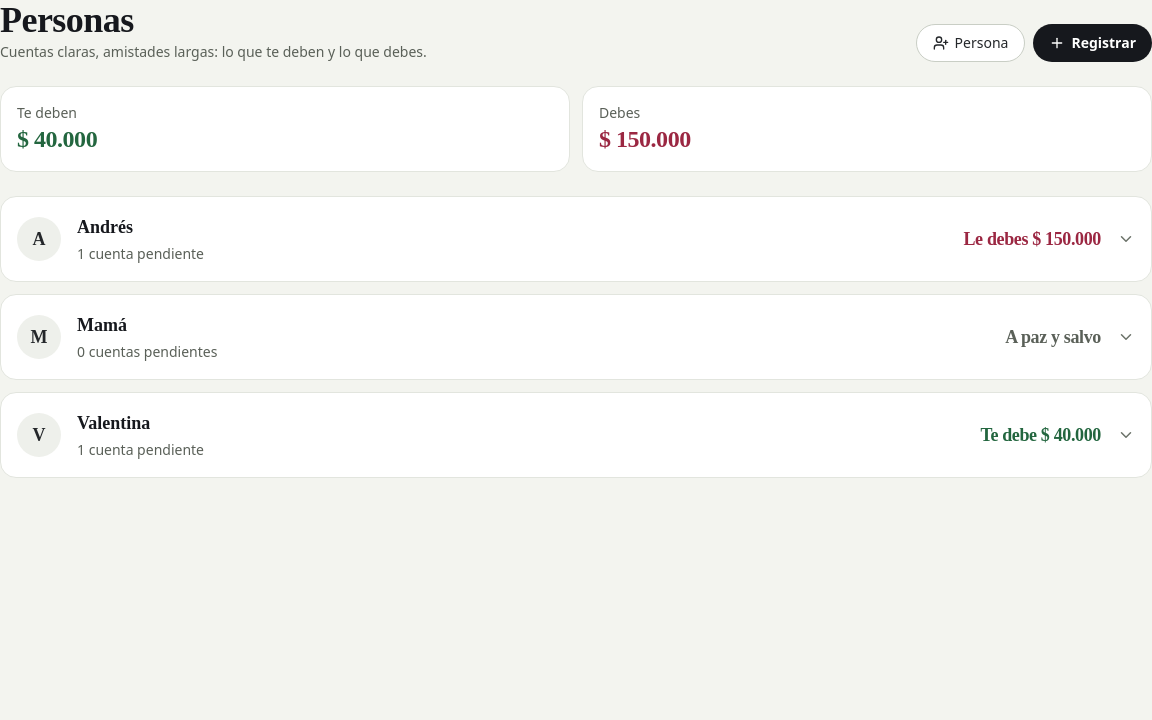
Test: Personas › un abono de más muestra el motivo que da la API
Click the button "V Valentina 1 cuenta pendiente Te debe $ 40.000" at (39, 435), box [1, 393, 1151, 477]
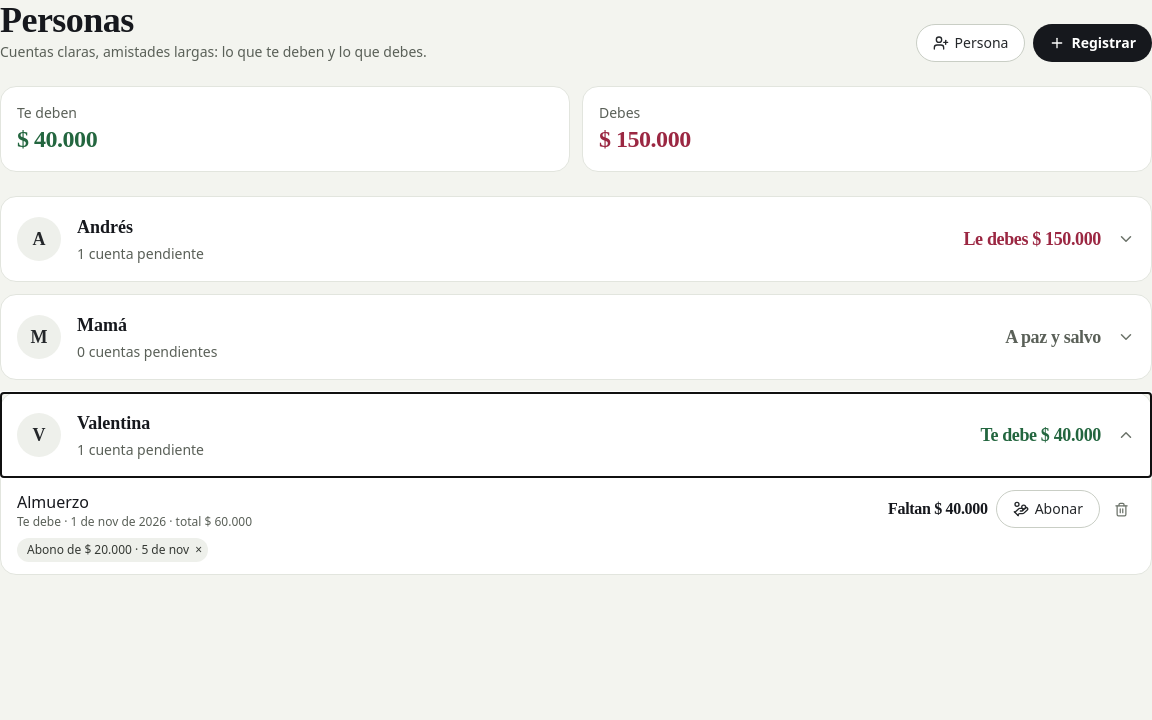
Click the button "Abonar" at (1048, 509), box [996, 490, 1100, 528]
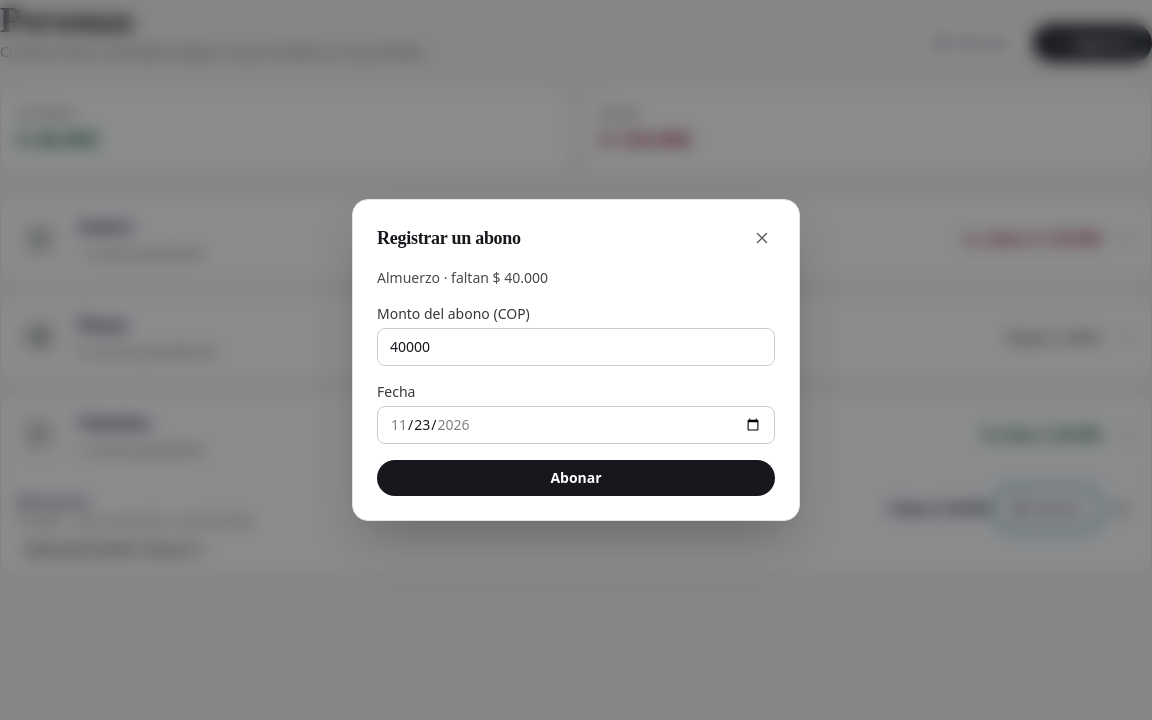
Replace the text in the number field labelled "Monto del abono (COP)" with "50000" at (576, 347), box [377, 328, 775, 366]
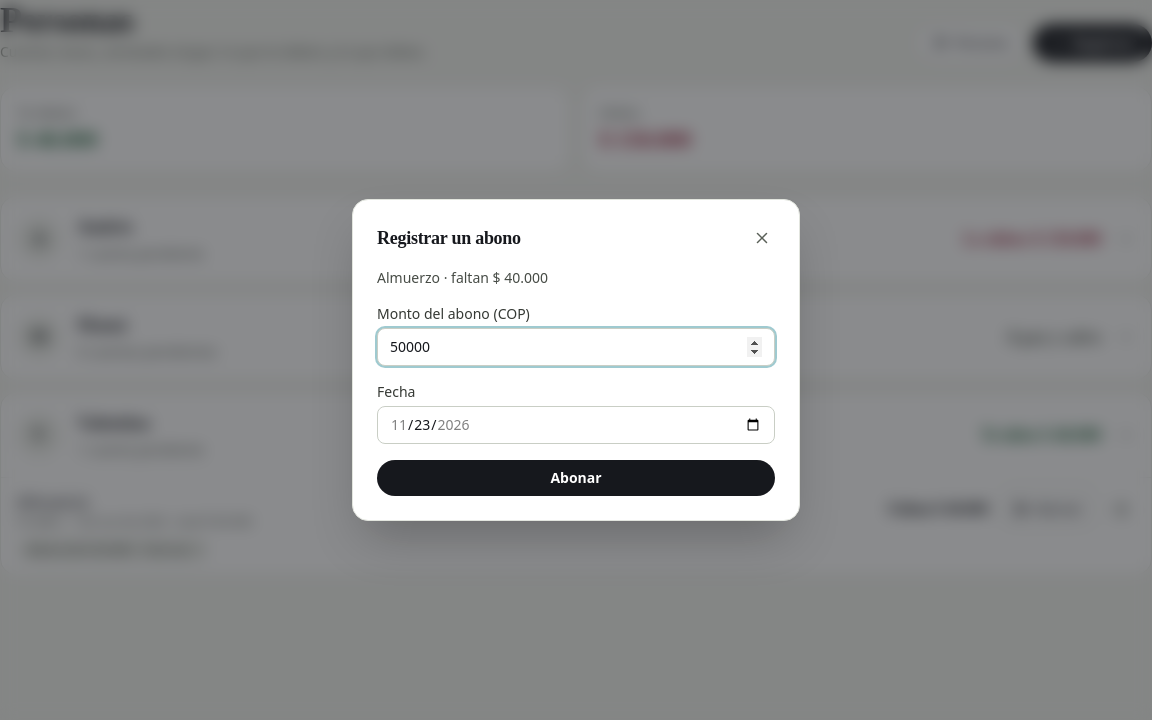
Click the button "Abonar" at (576, 478), box [377, 460, 775, 496]
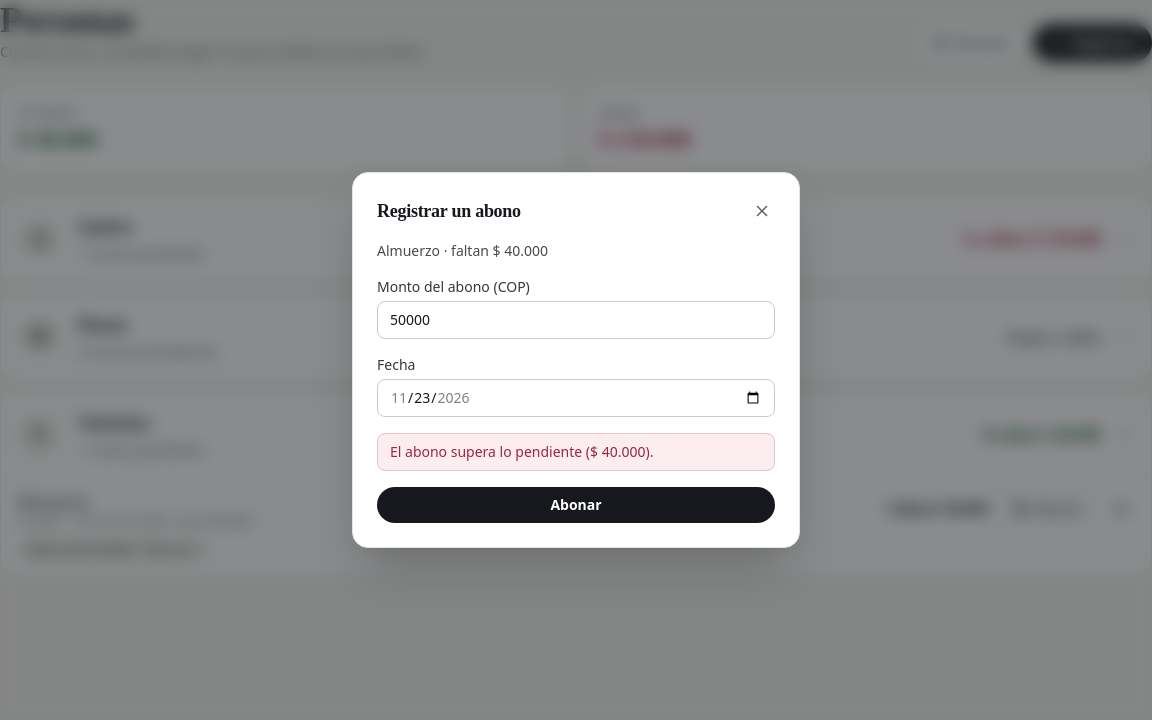
Check: the message shows "El abono supera lo pendiente", box [390, 442, 653, 461]
